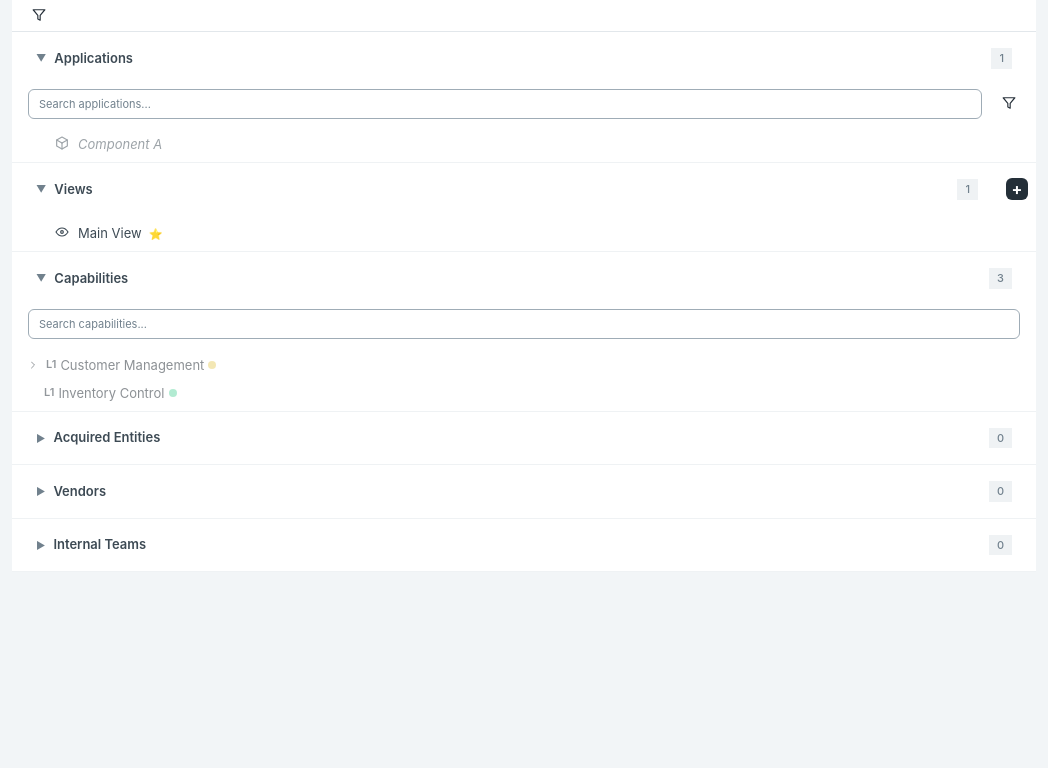
Test: Capability UI Consistency › Context Menu Consistency › Tree Context Menu for Capabilities › should show Edit option in capability tree context menu
The image size is (1048, 768).
expect the text "Customer Management" is shown: met, box [60,356,204,372]
Right-click the list item "L1 Customer Management": (120, 365) [24,356,216,374]
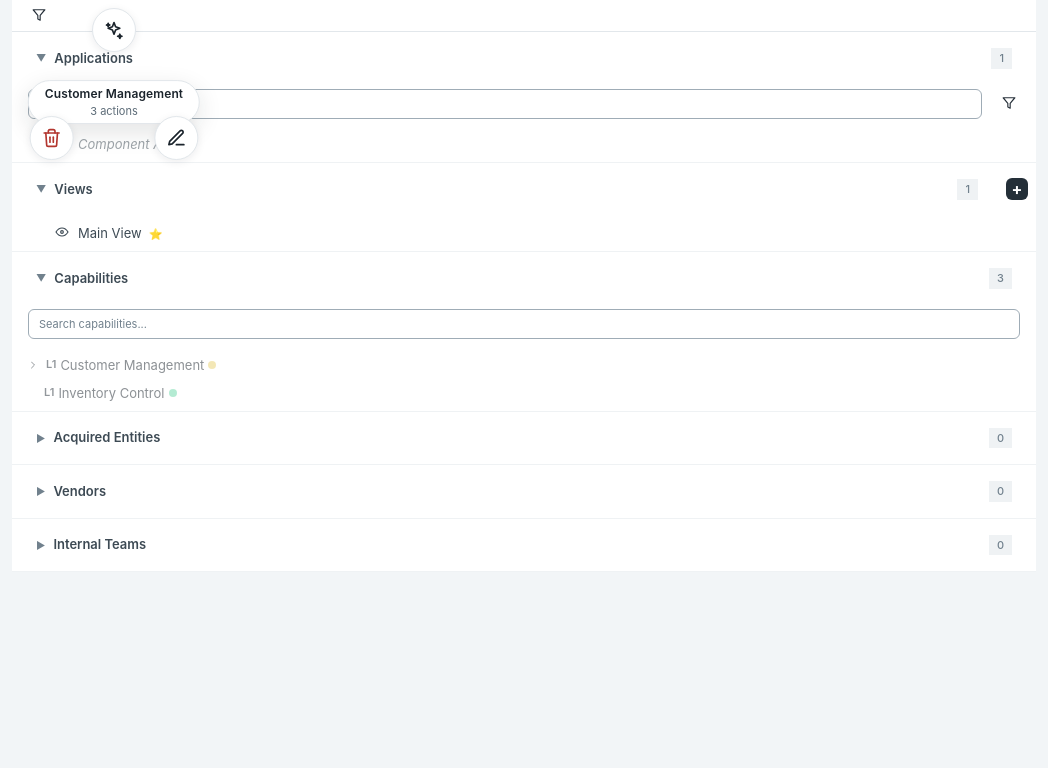
expect the menu item named "Edit" is shown: met, box [154,116,198,160]
